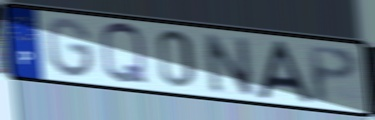0: (155, 28, 198, 91)
A: (254, 39, 317, 106)
G: (44, 15, 97, 81)
N: (200, 30, 257, 98)
P: (304, 43, 361, 108)
Q: (98, 20, 151, 88)
